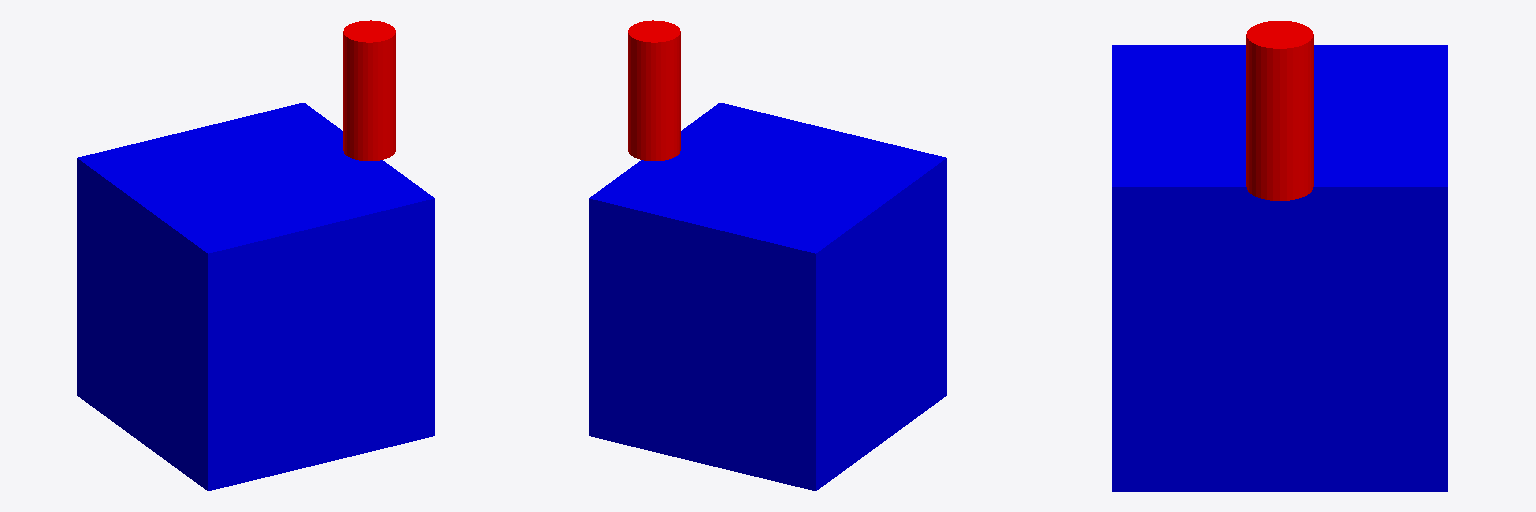
URDF robot description (jedy_simple):
<?xml version='1.0' encoding='UTF-8'?>
<robot name="jedy_simple">
  <!-- Base Link with simple box geometry instead of mesh -->
  <link name="base_link">
    <inertial>
      <origin xyz="0 0 0.05" rpy="0 0 0"/>
      <mass value="0.5"/>
      <inertia ixx="0.01" ixy="0.0" ixz="0.0" iyy="0.01" iyz="0.0" izz="0.01"/>
    </inertial>
    <visual>
      <geometry>
        <box size="0.1 0.1 0.1"/>
      </geometry>
      <material name="blue">
        <color rgba="0 0 1 1"/>
      </material>
      <origin xyz="0 0 0" rpy="0 0 0"/>
    </visual>
    <collision>
      <geometry>
        <box size="0.1 0.1 0.1"/>
      </geometry>
      <origin xyz="0 0 0" rpy="0 0 0"/>
    </collision>
  </link>
  
  <!-- Simplified arm link -->
  <link name="rarm_link0">
    <inertial>
      <origin xyz="0 0 0" rpy="0 0 0"/>
      <mass value="0.01"/>
      <inertia ixx="0.0001" ixy="0.0" ixz="0.0" iyy="0.0001" iyz="0.0" izz="0.0001"/>
    </inertial>
    <visual>
      <geometry>
        <cylinder radius="0.01" length="0.05"/>
      </geometry>
      <material name="red">
        <color rgba="1 0 0 1"/>
      </material>
      <origin xyz="0 0 0.025" rpy="0 0 0"/>
    </visual>
    <collision>
      <geometry>
        <cylinder radius="0.01" length="0.05"/>
      </geometry>
      <origin xyz="0 0 0.025" rpy="0 0 0"/>
    </collision>
  </link>
  
  <!-- Simple fixed joint -->
  <joint name="base_to_rarm" type="fixed">
    <parent link="base_link"/>
    <child link="rarm_link0"/>
    <origin xyz="0.05 0 0.05" rpy="0 0 0"/>
  </joint>
</robot>

--- Render facts (derived) ---
3 views of the same robot in one strip: view 1: azimuth 30°, elevation 25°; view 2: azimuth 150°, elevation 25°; view 3: azimuth 270°, elevation 25° (orthographic).
Robot: jedy_simple — 2 links, 1 joints (1 fixed); root link base_link; default pose: every joint at zero.
Links seen in each view (by area): view 1: base_link, rarm_link0; view 2: base_link, rarm_link0; view 3: base_link, rarm_link0.
Boxes of the visible links, left/top/right/bottom form: base_link: left=77, top=103, right=434, bottom=490; rarm_link0: left=343, top=20, right=395, bottom=160; base_link: left=589, top=103, right=946, bottom=490; rarm_link0: left=628, top=20, right=680, bottom=160; base_link: left=1112, top=45, right=1447, bottom=491; rarm_link0: left=1246, top=21, right=1313, bottom=200.
Bounding box of the posed robot: 0.11 × 0.1 × 0.15 m (x, y, z).
Geometry: primitives only (box / cylinder / sphere), no mesh files.
